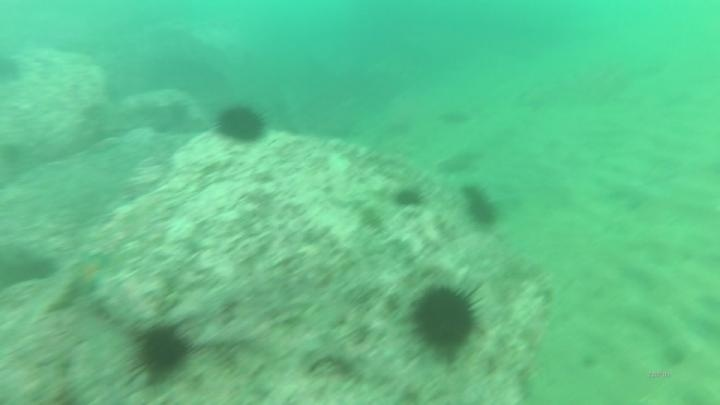echinus: (405, 279, 485, 361), (128, 319, 195, 384), (213, 101, 269, 146), (464, 199, 502, 232), (391, 184, 426, 212), (461, 184, 484, 206)
starfish: (69, 249, 115, 297)
